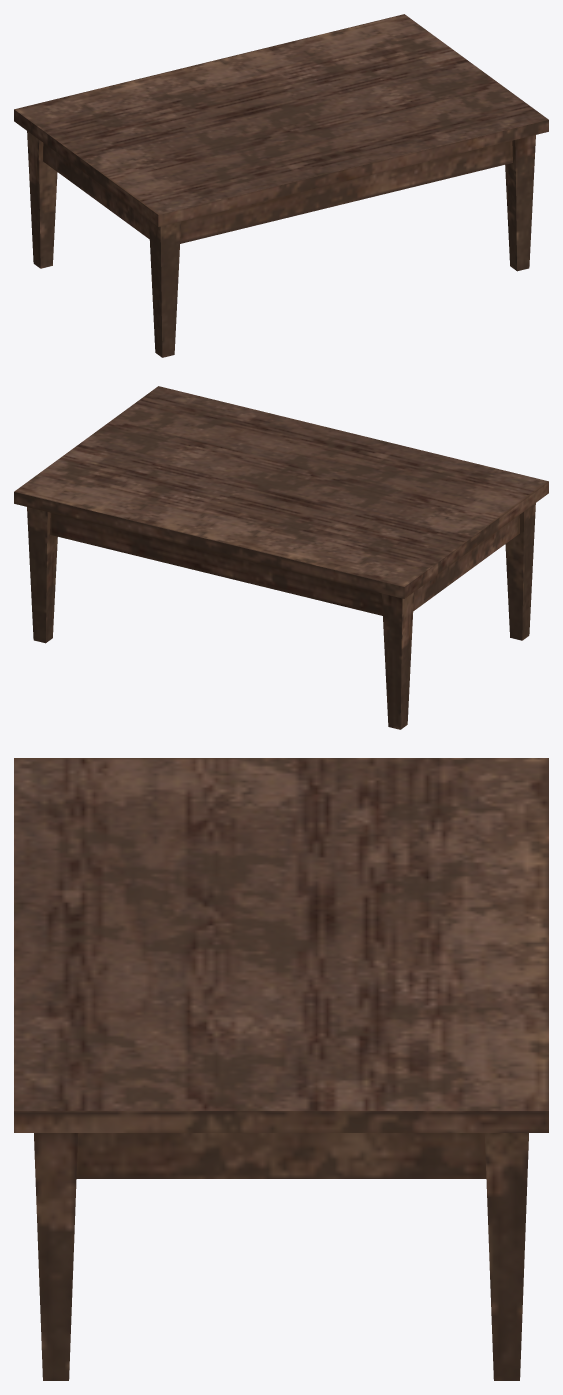
The model's file is Table.fbx.
3 renders of one model, top to bottom at view 1: azimuth 30°, elevation 25°; view 2: azimuth 150°, elevation 25°; view 3: azimuth 270°, elevation 25°, orthographic. The views are drawn at different scales.
Parts seen in each view (by area): view 1: Table; view 2: Table; view 3: Table.
Part boxes in pixels (x1,y1,x2,y2): Table: (14,14,548,357); Table: (14,386,548,729); Table: (14,758,548,1380).
Bounding box in the file's own units: 282 × 104 × 180.
Materials: 1 (1 with a texture image).
